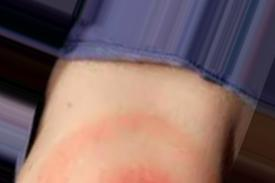Tick: (59, 121, 206, 182)
